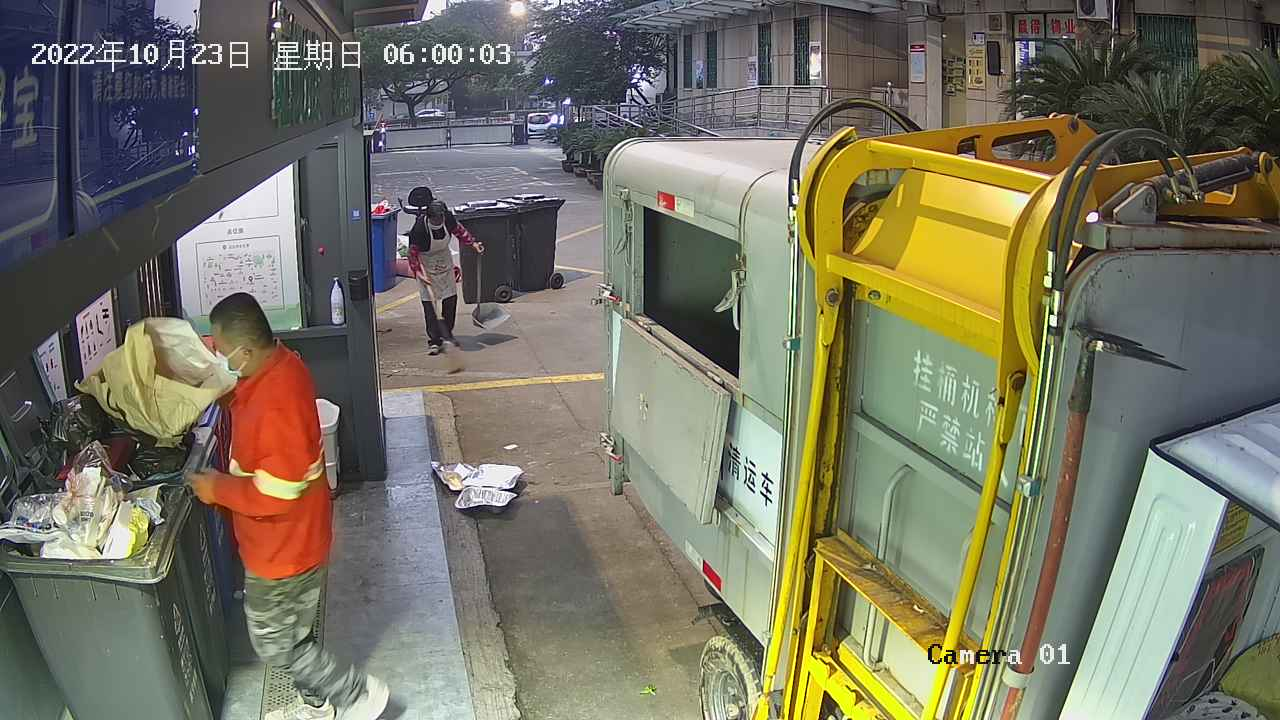lvzhipin: (428, 456, 527, 516)
person: (404, 198, 487, 360)
worker: (180, 287, 399, 720)
